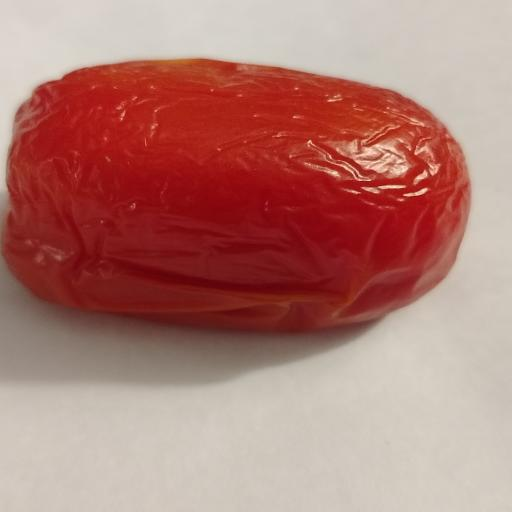spoiled: (3, 60, 470, 330)
